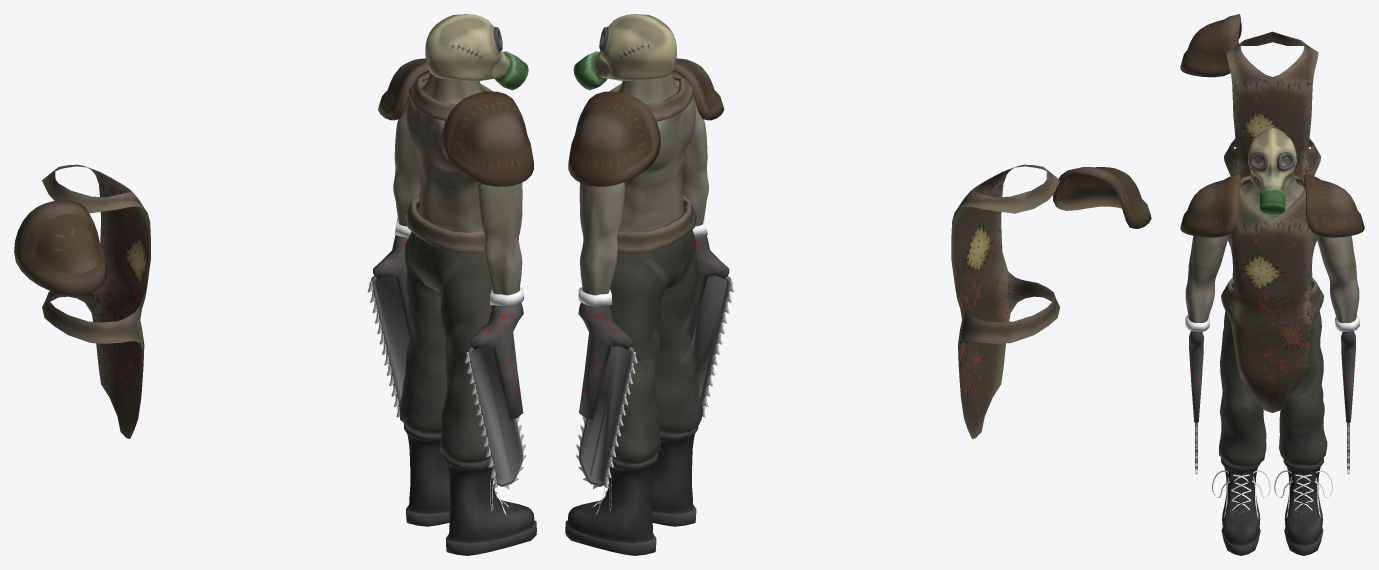
File: EnemyModel.glb
3 views of the same model, side by side, from view 1: azimuth 30°, elevation 25°; view 2: azimuth 150°, elevation 25°; view 3: azimuth 270°, elevation 25° (orthographic). The views are drawn at different scales.
Parts seen in each view (by area): view 1: Cube.015, Cube.010, Cube.002; view 2: Cube.015, Cube.010, Cube.002; view 3: Cube.015, Cube.010, Cube.002.
Part boxes in pixels (x1,y1,x2,y2): Cube.015: (367, 14, 536, 555); Cube.010: (42, 164, 150, 438); Cube.002: (14, 200, 106, 295); Cube.015: (565, 14, 734, 555); Cube.010: (951, 164, 1060, 438); Cube.002: (1053, 167, 1151, 228); Cube.015: (1180, 128, 1364, 555); Cube.010: (1224, 31, 1320, 178); Cube.002: (1180, 14, 1241, 77).
Size of the model in its own units: 3.66 by 3.38 by 1.4.
13 materials, 9 textured.
